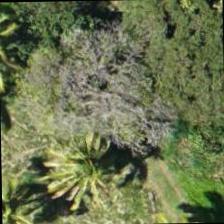Kelapa_Sawit: (31, 122, 123, 215)
